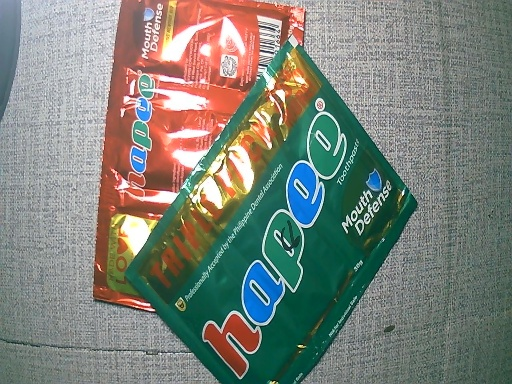plastic: (126, 38, 413, 384), (92, 1, 297, 312)
